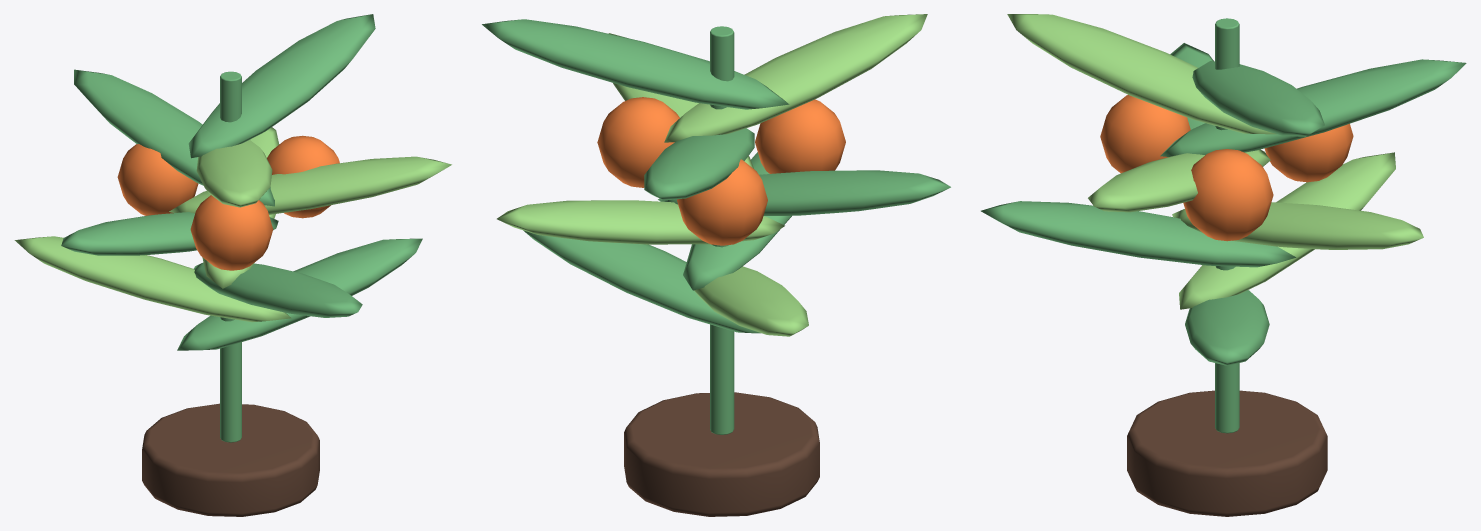
File: Plant_Mature.glb
3 renders of one model, left to right at view 1: azimuth 30°, elevation 25°; view 2: azimuth 150°, elevation 25°; view 3: azimuth 270°, elevation 25°, orthographic. The views are drawn at different scales.
Parts seen in each view (by area): view 1: Soil plug.002, Growth 2 leaf.062, Growth 2 leaf.055, Growth 2 leaf.059, Growth 2 leaf.060, Growth 2 leaf.054, Growth 2 leaf.056, Harvest fruit.020, Growth 2 leaf.058, Harvest fruit.019, Growth 2 leaf.061, Plant stem.020 (+2 smaller); view 2: Soil plug.002, Growth 2 leaf.062, Growth 2 leaf.061, Growth 2 leaf.057, Growth 2 leaf.054, Growth 2 leaf.058, Harvest fruit.020, Growth 2 leaf.060, Harvest fruit.018, Growth 2 leaf.055, Harvest fruit.019, Plant stem.020 (+2 smaller); view 3: Soil plug.002, Growth 2 leaf.056, Growth 2 leaf.061, Growth 2 leaf.060, Growth 2 leaf.055, Growth 2 leaf.057, Harvest fruit.018, Growth 2 leaf.062, Growth 2 leaf.054, Growth 2 leaf.059, Harvest fruit.020, Harvest fruit.019 (+2 smaller).
Boxes of the visible parts, x1,y1,x2,y2 form: Soil plug.002: (142,403,319,516); Growth 2 leaf.062: (188,14,375,158); Growth 2 leaf.055: (14,236,291,322); Growth 2 leaf.059: (169,156,451,214); Growth 2 leaf.060: (74,69,274,206); Growth 2 leaf.054: (177,238,422,350); Growth 2 leaf.056: (193,262,362,317); Harvest fruit.020: (190,195,273,270); Growth 2 leaf.058: (61,212,278,255); Harvest fruit.019: (117,144,198,215); Growth 2 leaf.061: (196,140,272,207); Plant stem.020: (220,71,241,442); Soil plug.002: (624,392,819,516); Growth 2 leaf.062: (482,19,789,109); Growth 2 leaf.061: (664,14,927,142); Growth 2 leaf.057: (497,200,784,244); Growth 2 leaf.054: (523,230,760,333); Growth 2 leaf.058: (658,170,950,215); Harvest fruit.020: (755,99,845,173); Growth 2 leaf.060: (644,128,754,200); Harvest fruit.018: (597,97,679,187); Growth 2 leaf.055: (694,266,808,336); Harvest fruit.019: (677,159,767,245); Plant stem.020: (710,26,734,434); Soil plug.002: (1127,390,1327,516); Growth 2 leaf.056: (981,201,1296,267); Growth 2 leaf.061: (1007,14,1276,134); Growth 2 leaf.060: (1160,59,1466,156); Growth 2 leaf.055: (1179,152,1395,309); Growth 2 leaf.057: (1172,202,1423,249); Harvest fruit.018: (1183,149,1273,241); Growth 2 leaf.062: (1192,61,1324,136); Growth 2 leaf.054: (1185,290,1269,365); Growth 2 leaf.059: (1088,149,1270,212); Harvest fruit.020: (1100,95,1190,173); Harvest fruit.019: (1264,123,1353,182).
Bounding box in the file's own units: 0.6377 × 0.65 × 0.6304.
